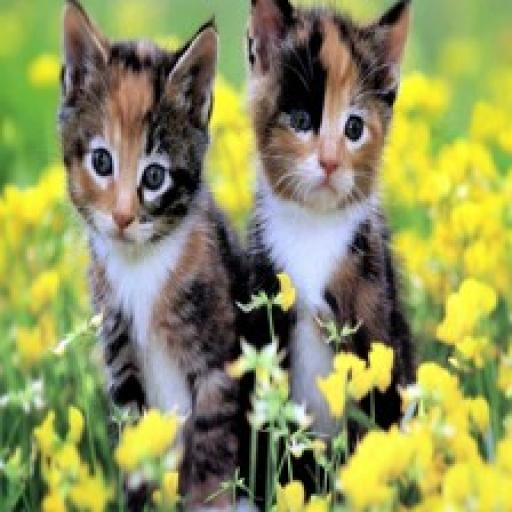cat: (53, 0, 250, 512), (235, 0, 418, 491)
